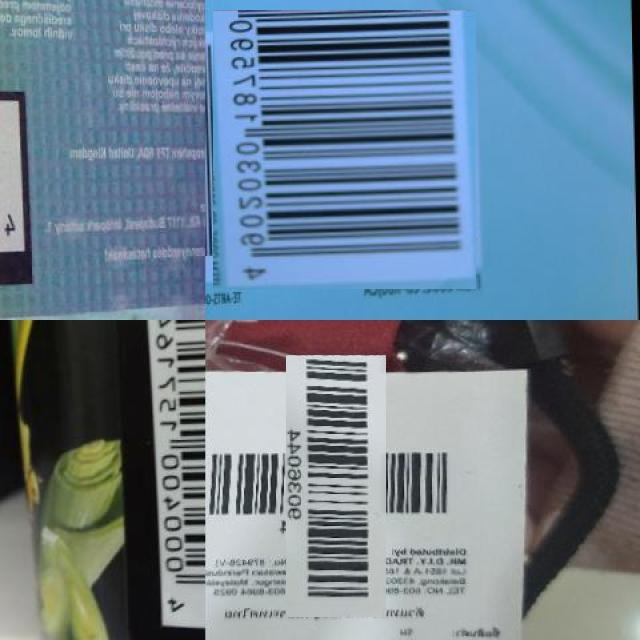Barcode: (209, 14, 480, 285), (245, 395, 427, 576), (148, 320, 205, 635)
